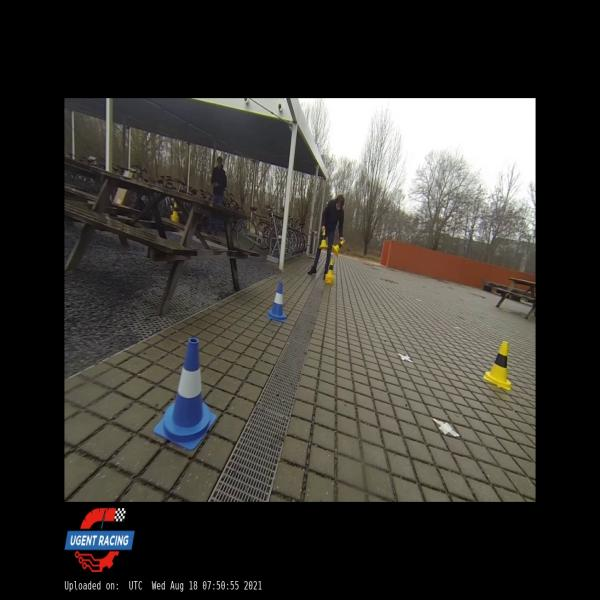blue_cone: (153, 338, 216, 449), (267, 282, 287, 322)
yellow_cone: (483, 340, 512, 390), (324, 260, 335, 278), (332, 240, 344, 256), (319, 229, 328, 248), (170, 203, 179, 217)
